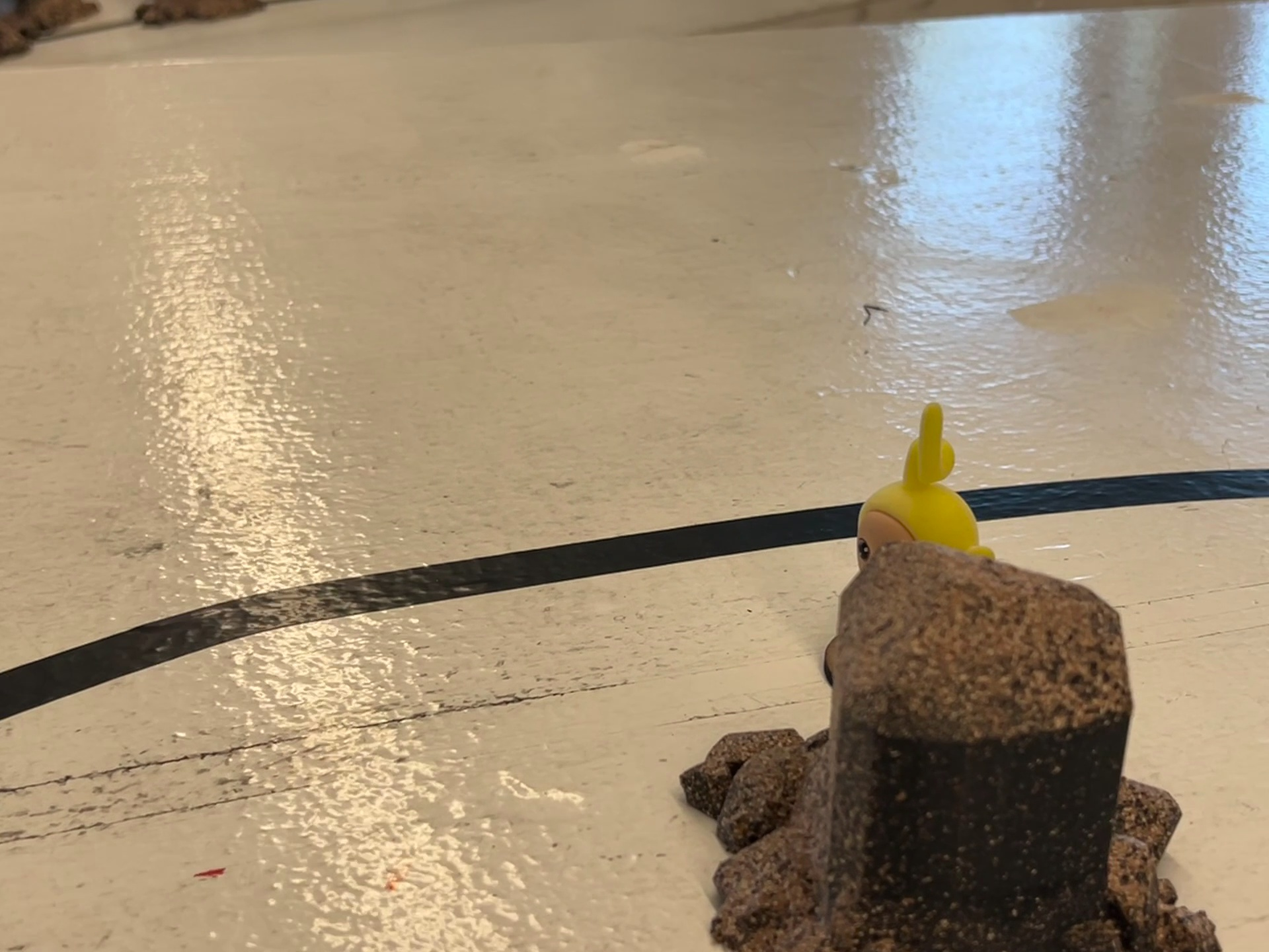teletubby: (856, 403, 995, 569)
